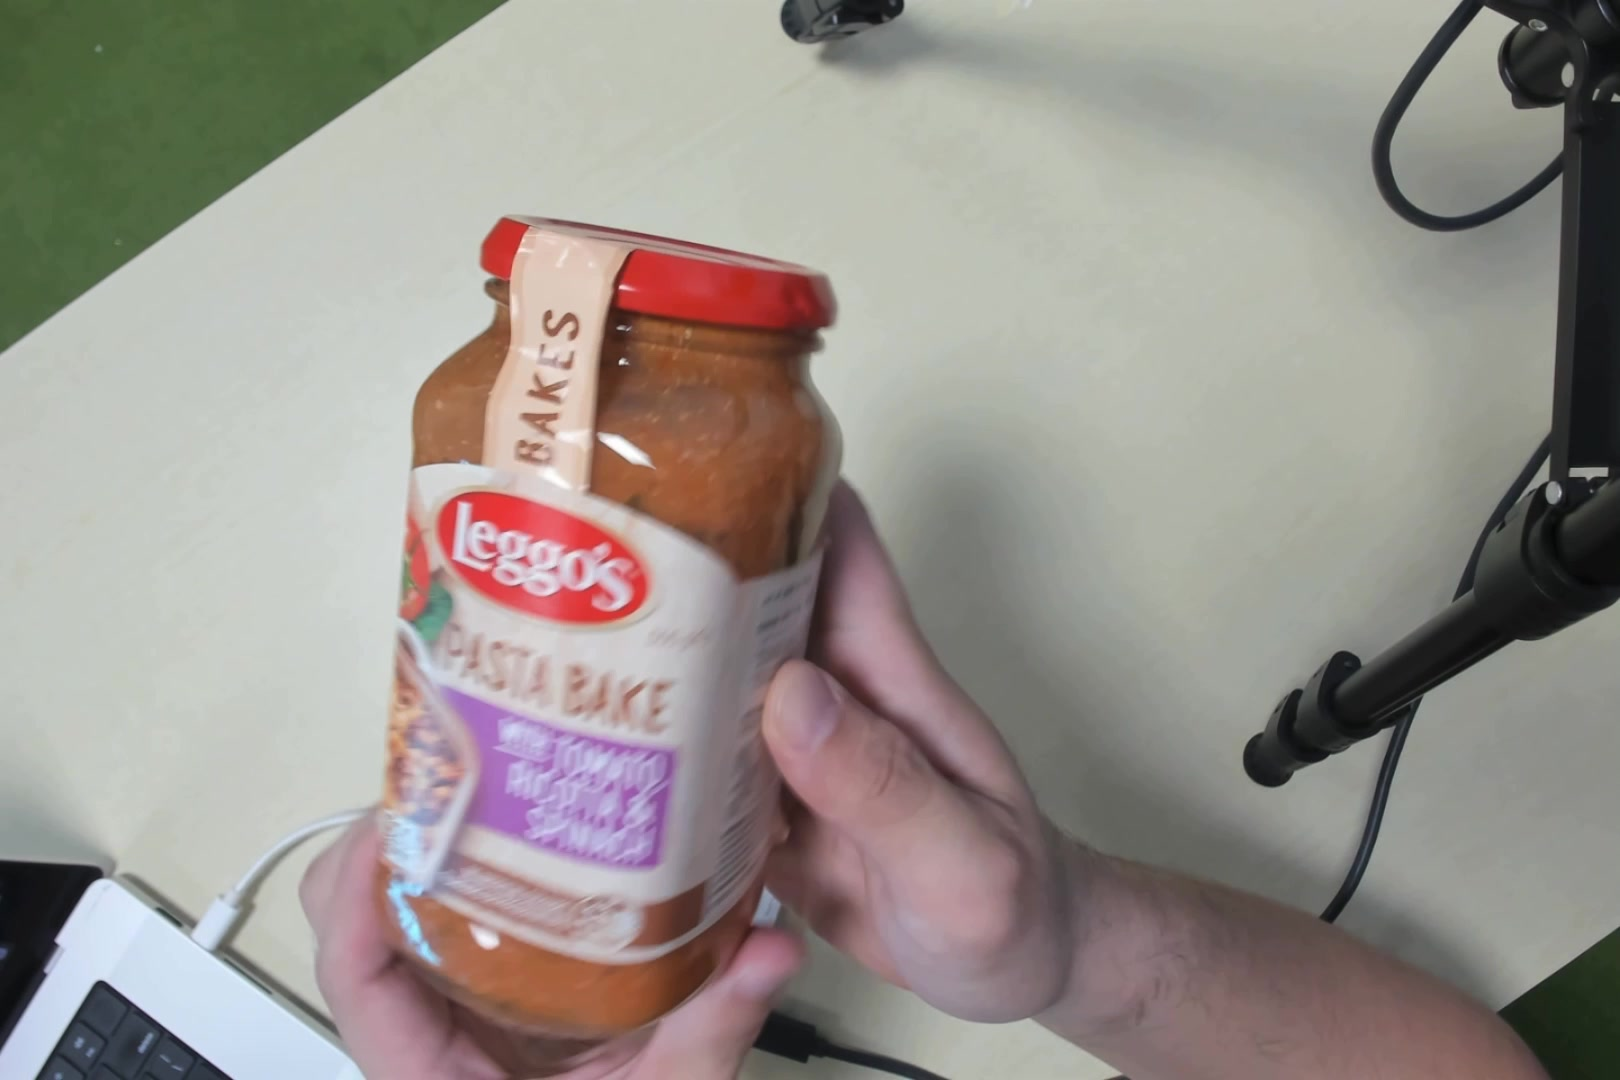Pasta_500-599g_Halal_NonHealthy: (370, 209, 779, 974)
